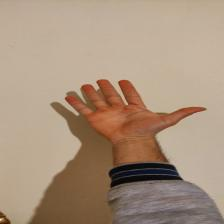five: (57, 77, 211, 135)
